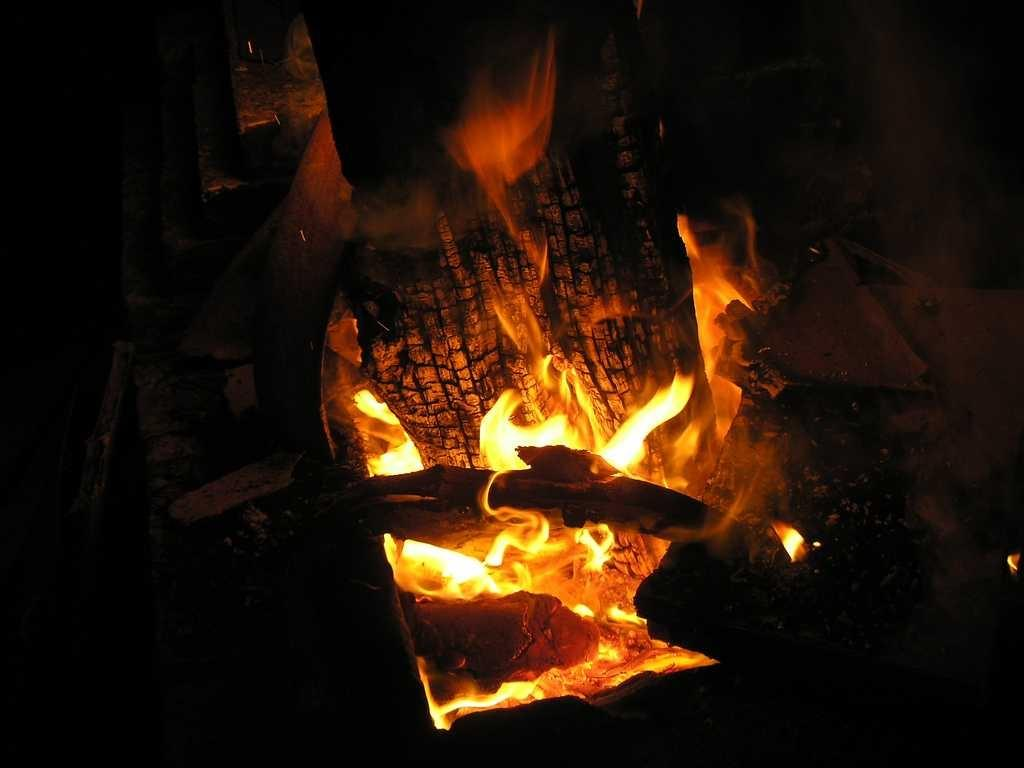fire: (620, 372, 700, 458), (402, 540, 492, 600), (478, 410, 574, 456)
